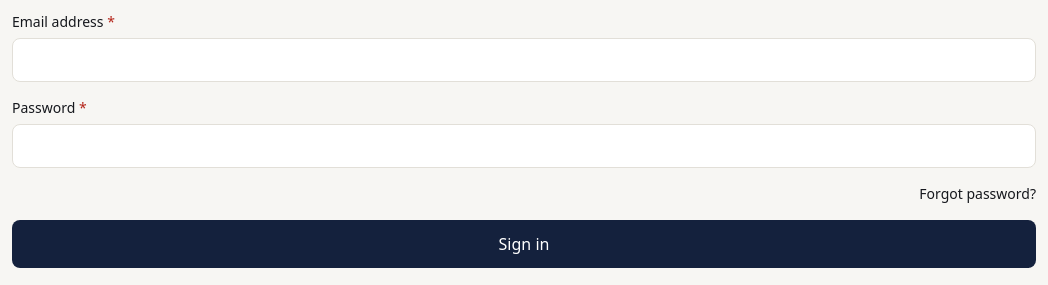
LoginForm › reports remaining attempts for a wrong code
Step 1. Type "ada@example.com" into the field labelled "Email address *" → (524, 60), box [12,38,1036,82]
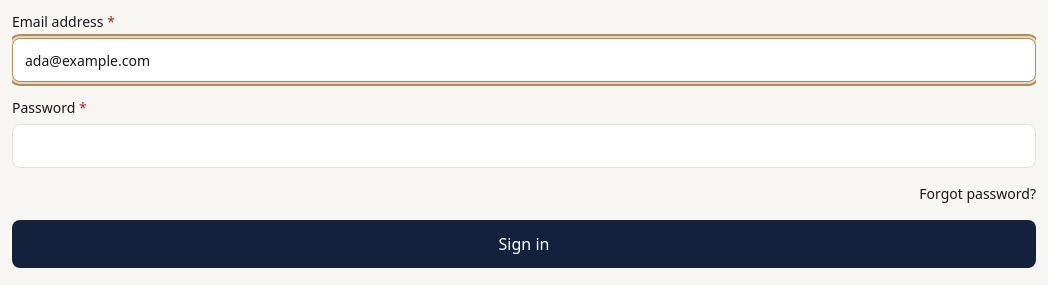
Step 2. Type "Secret-Passw0rd!" into the password field labelled "Password *" → (524, 146), box [12,124,1036,168]
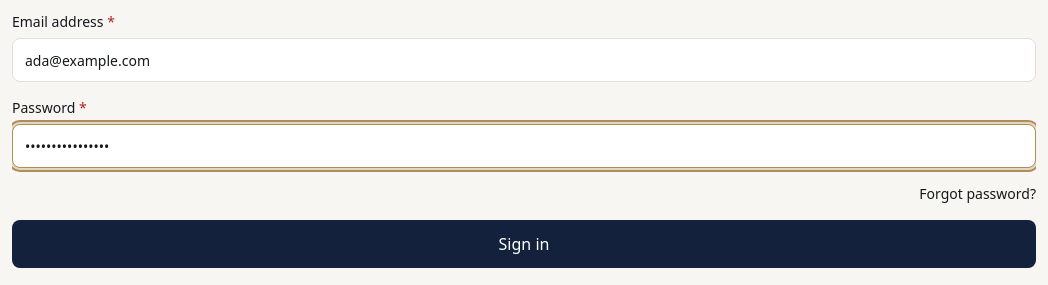
Step 3. Click the button "Sign in" → (524, 244), box [12,220,1036,268]
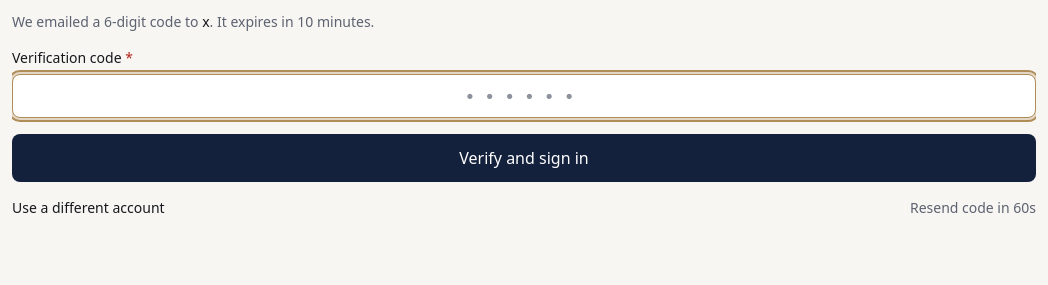
Step 4. Type "000000" into the field labelled "Verification code *" → (524, 96), box [12,74,1036,118]
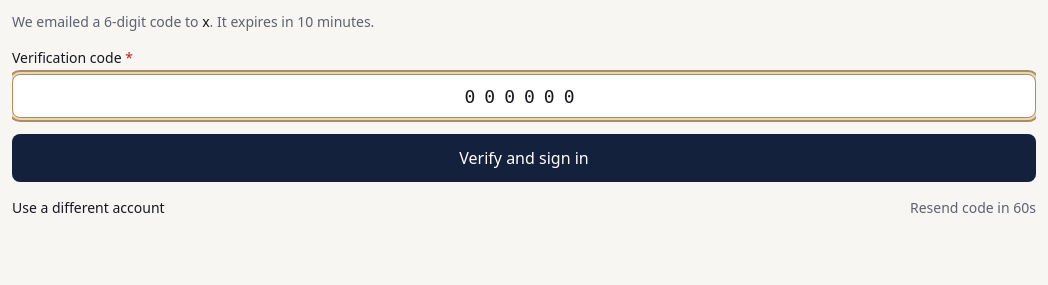
Step 5. Click the button "Verify and sign in" → (524, 158), box [12,134,1036,182]
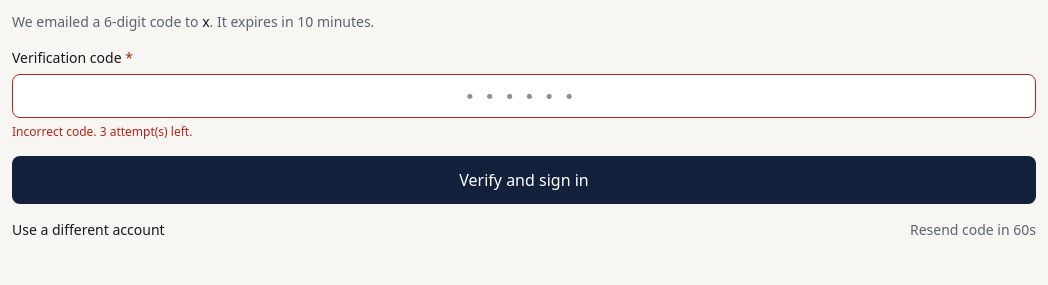
Now the text "Incorrect code. 3 attempt(s) left." is shown, box [12,123,192,140]
